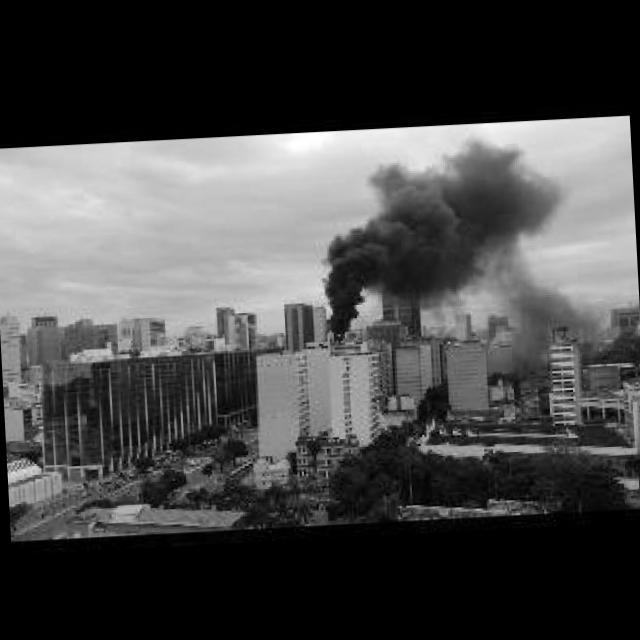fire: (336, 334, 345, 346)
smoke: (362, 138, 558, 294), (316, 234, 371, 340)
